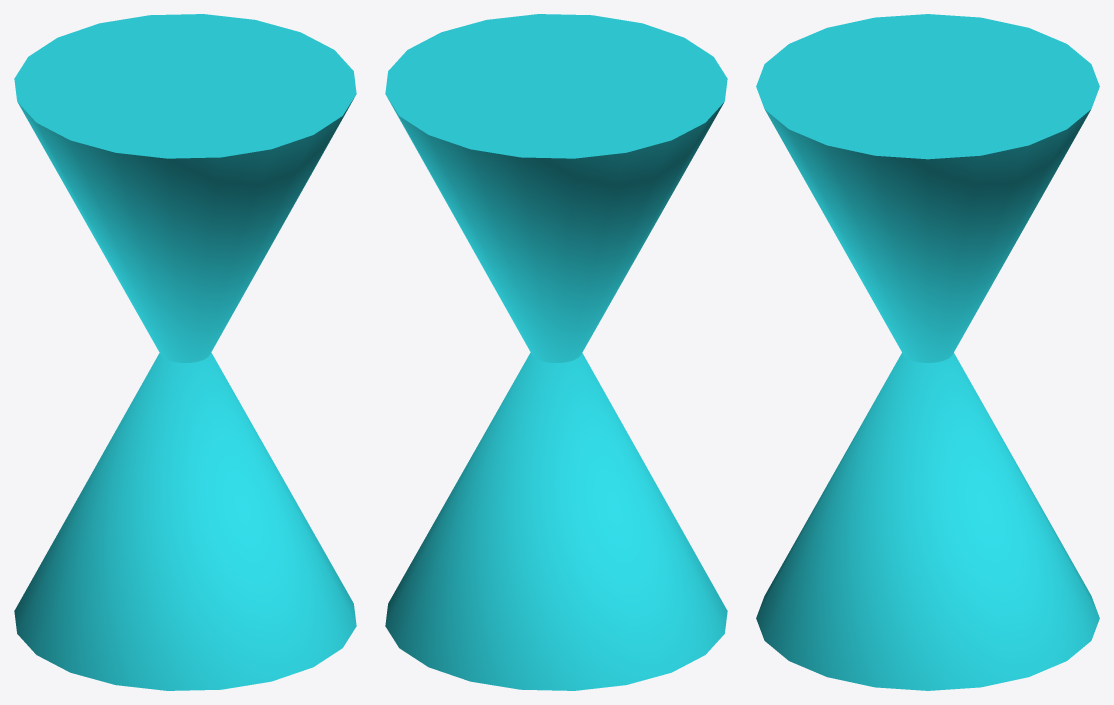
File: Repulse.fbx
The picture shows the model from 3 angles, left to right: view 1: azimuth 30°, elevation 25°; view 2: azimuth 150°, elevation 25°; view 3: azimuth 270°, elevation 25°; orthographic projection.
Parts seen in each view (by area): view 1: pCone2, pCone1; view 2: pCone2, pCone1; view 3: pCone2, pCone1.
Part boxes in pixels (<box>): pCone2: <box>14,14,356,362</box>; pCone1: <box>14,352,356,690</box>; pCone2: <box>385,14,727,362</box>; pCone1: <box>385,352,727,690</box>; pCone2: <box>756,14,1099,362</box>; pCone1: <box>756,353,1099,690</box>.
Bounding box in the file's own units: 45.37 × 77.41 × 45.37.
